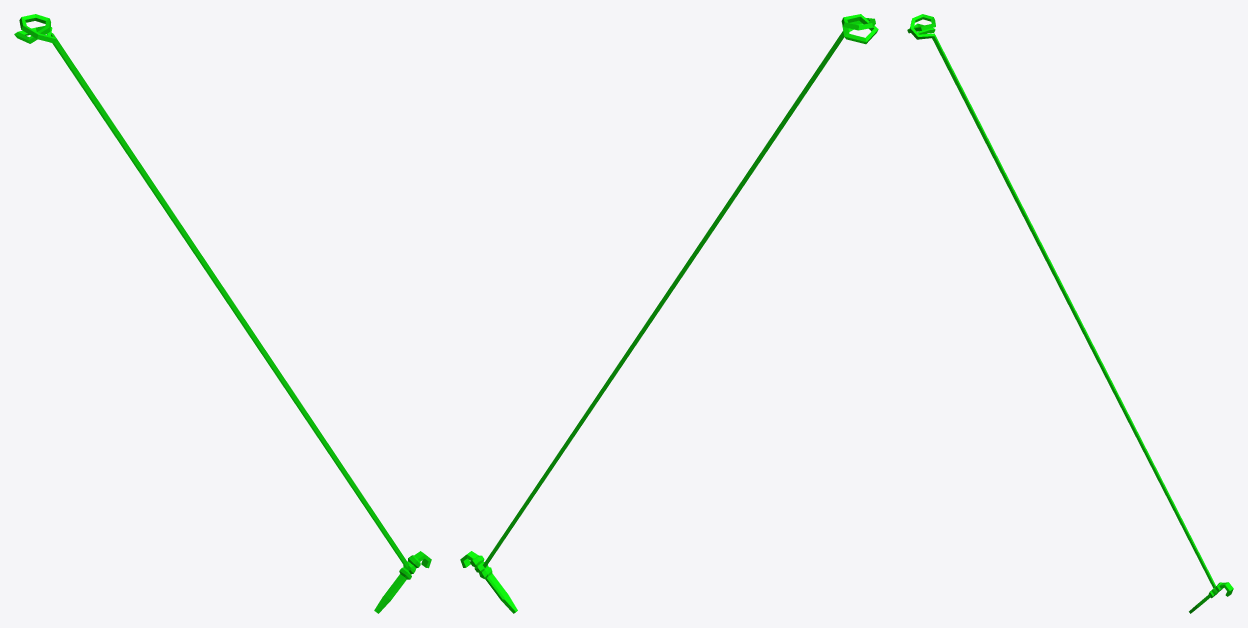
File: SM_Market_Stall_Rope_Long.fbx
3 views of the same model, side by side, from view 1: azimuth 30°, elevation 25°; view 2: azimuth 150°, elevation 25°; view 3: azimuth 330°, elevation 25° (orthographic). The views are drawn at different scales.
Parts seen in each view (by area): view 1: market-stall-rope-long; view 2: market-stall-rope-long; view 3: market-stall-rope-long.
Boxes of the visible parts, x1,y1,x2,y2 form: market-stall-rope-long: (14, 14, 431, 613); market-stall-rope-long: (460, 14, 878, 613); market-stall-rope-long: (907, 14, 1233, 613).
Size of the model in its own units: 2.33 by 3.67 by 0.2119.
